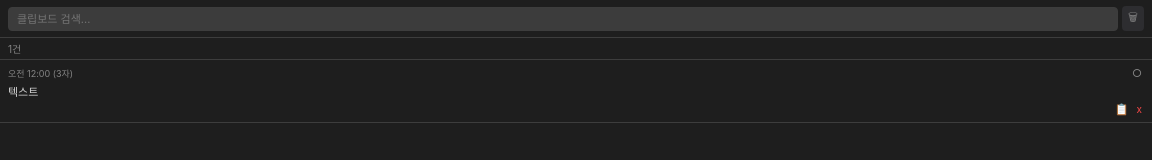
Test case: ClipboardPanel › 검색 결과 없으면 결과없음 메시지가 표시된다
Type "zzz없음" into the field with placeholder "클립보드 검색...". click: (563, 18)
box: [8,6,1118,30]
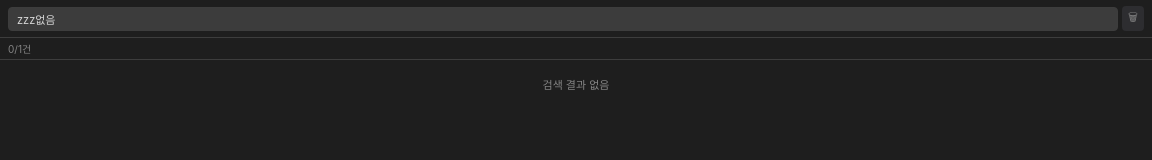
Expected: the text "검색 결과 없음" is shown, [542,78,609,92]
